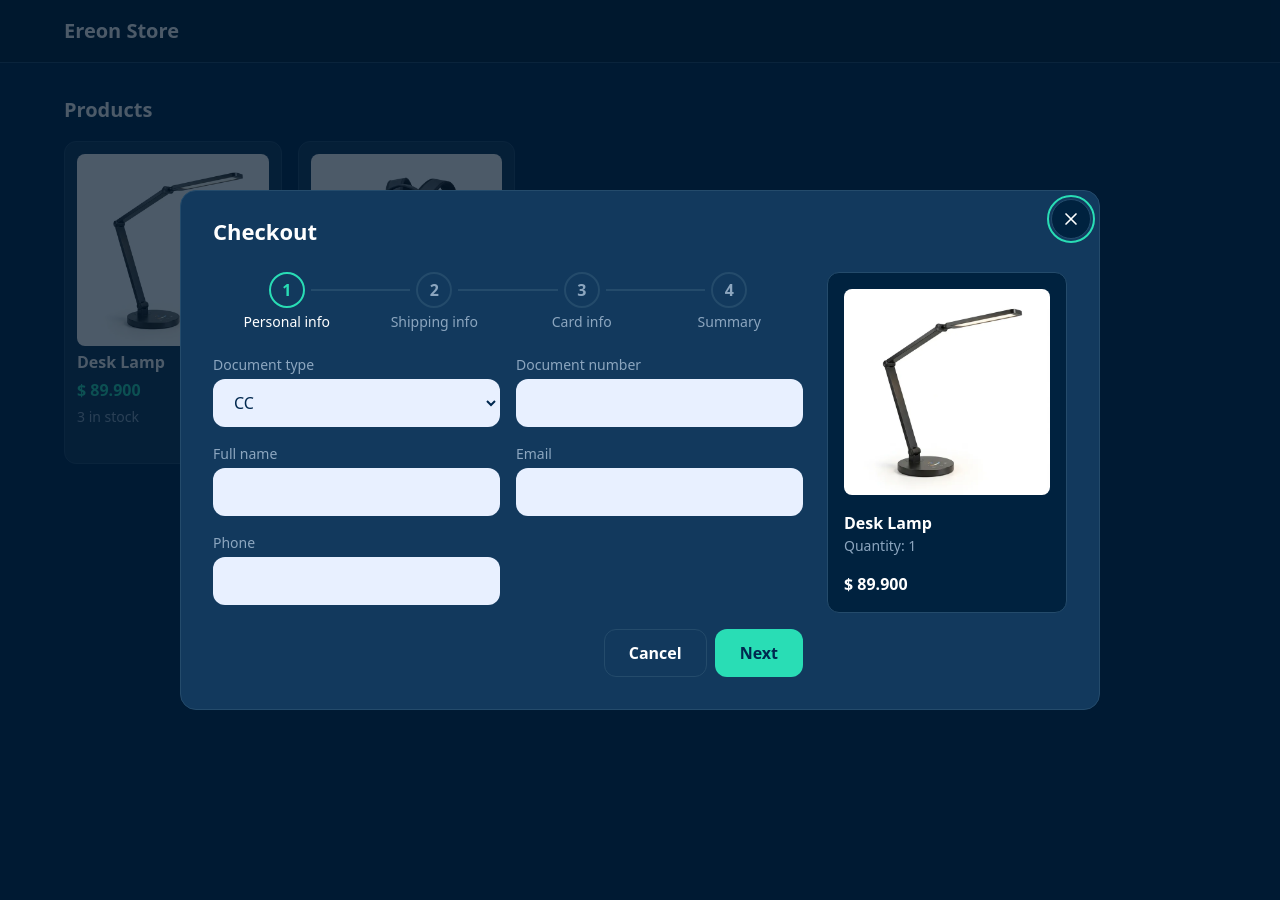
Test: checkout modal › blocks "Next" with inline errors until the current step is valid
This screenshot has width=1280, height=900.
Earlier steps of the test are not shown.
Click the button "Next" at [759, 653], box [715, 629, 803, 677]
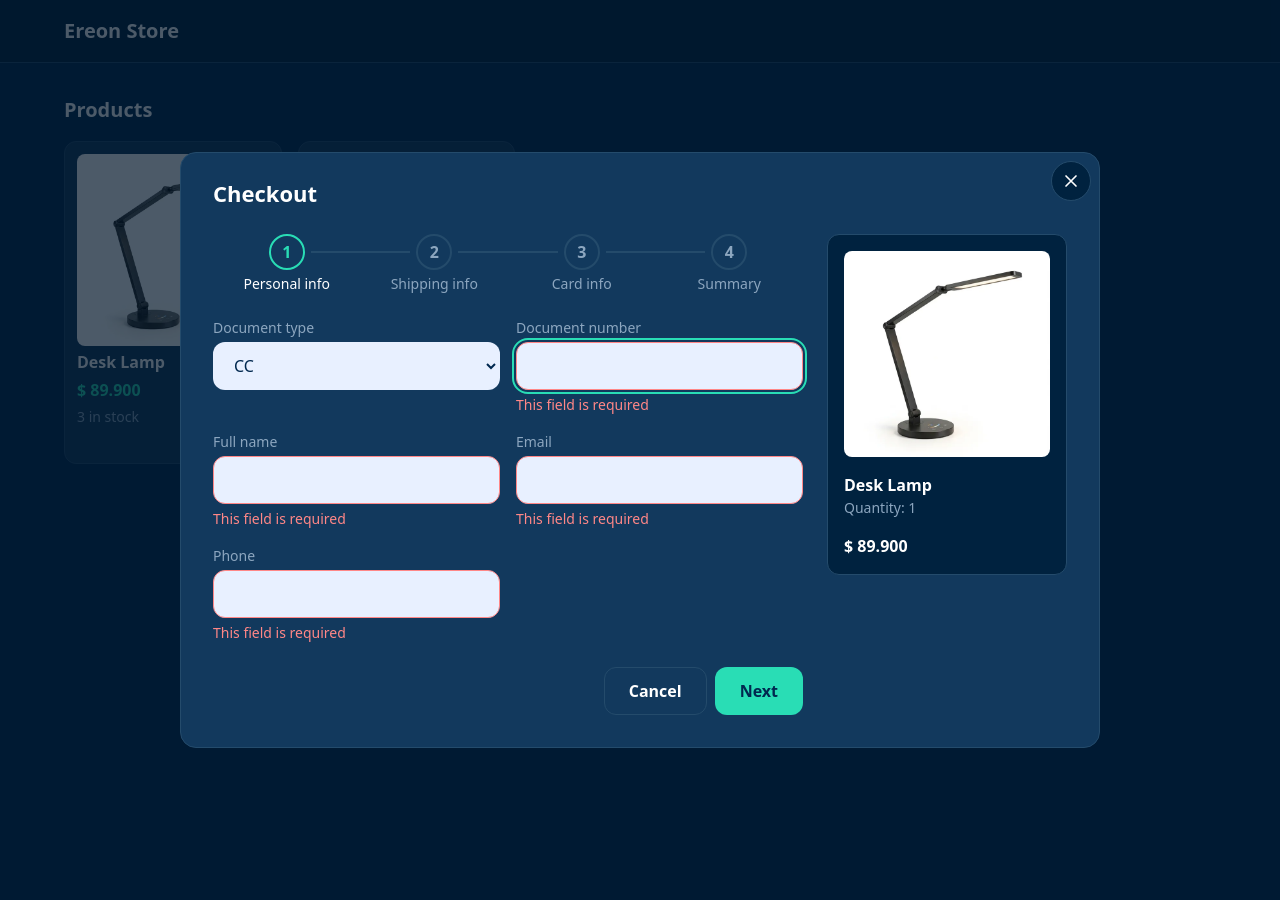
Type "1020304050" into the field labelled "Document number" at [660, 366], box [516, 342, 803, 390]
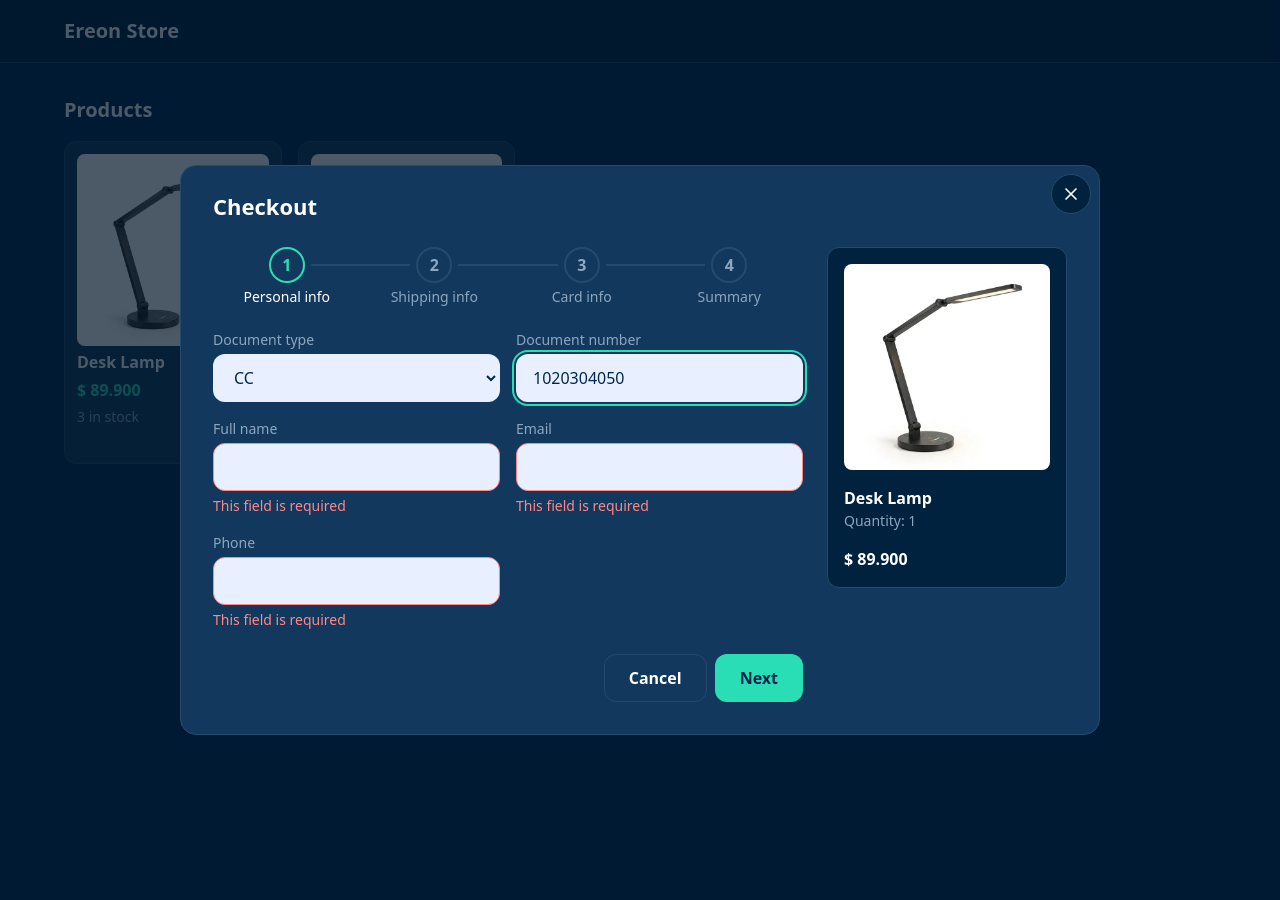
Type "Jane Doe" into the field labelled "Full name" at [356, 467], box [213, 443, 500, 491]
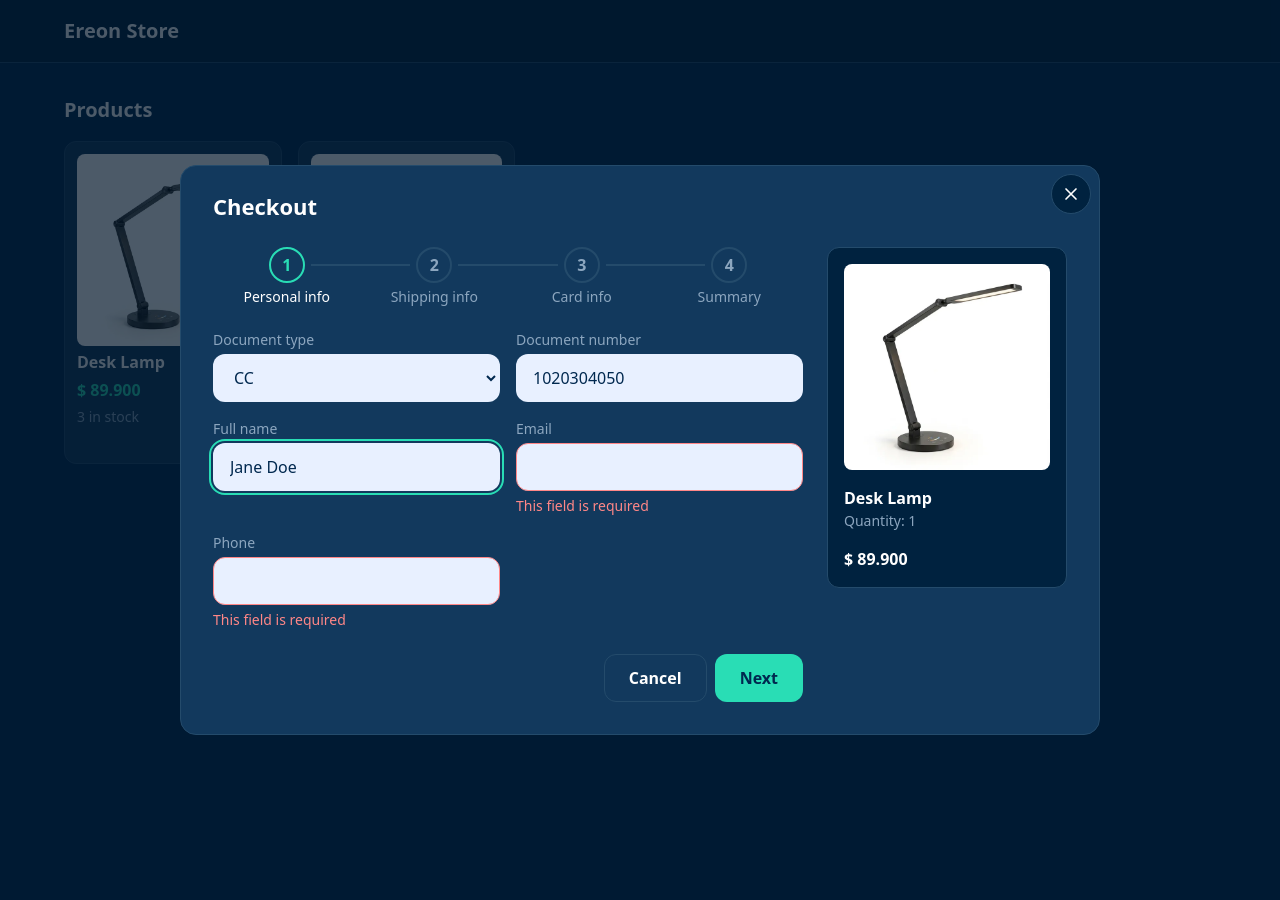
Type "jane@example.com" into the field labelled "Email" at [660, 467], box [516, 443, 803, 491]
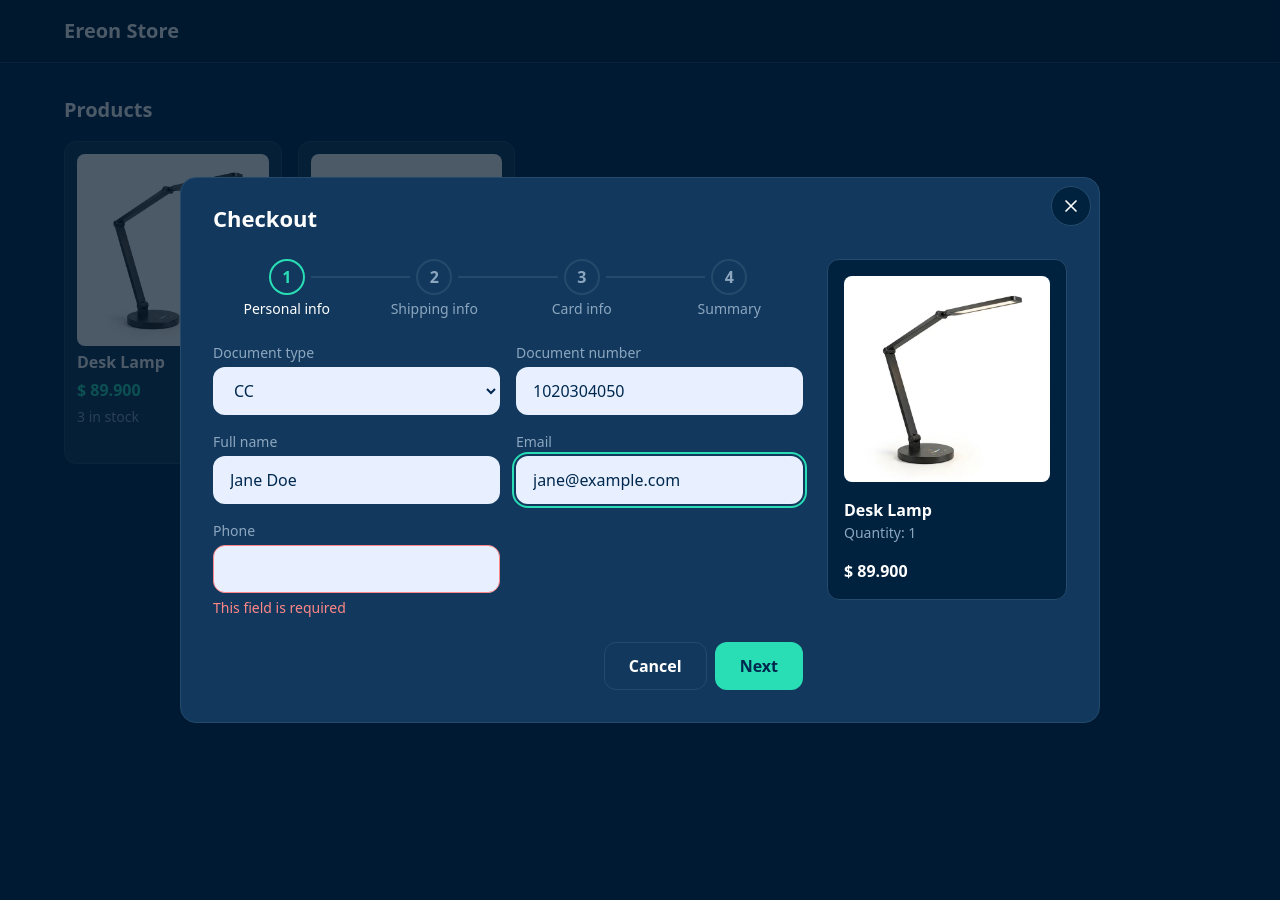
Type "3001112233" into the field labelled "Phone" at [356, 569], box [213, 545, 500, 593]
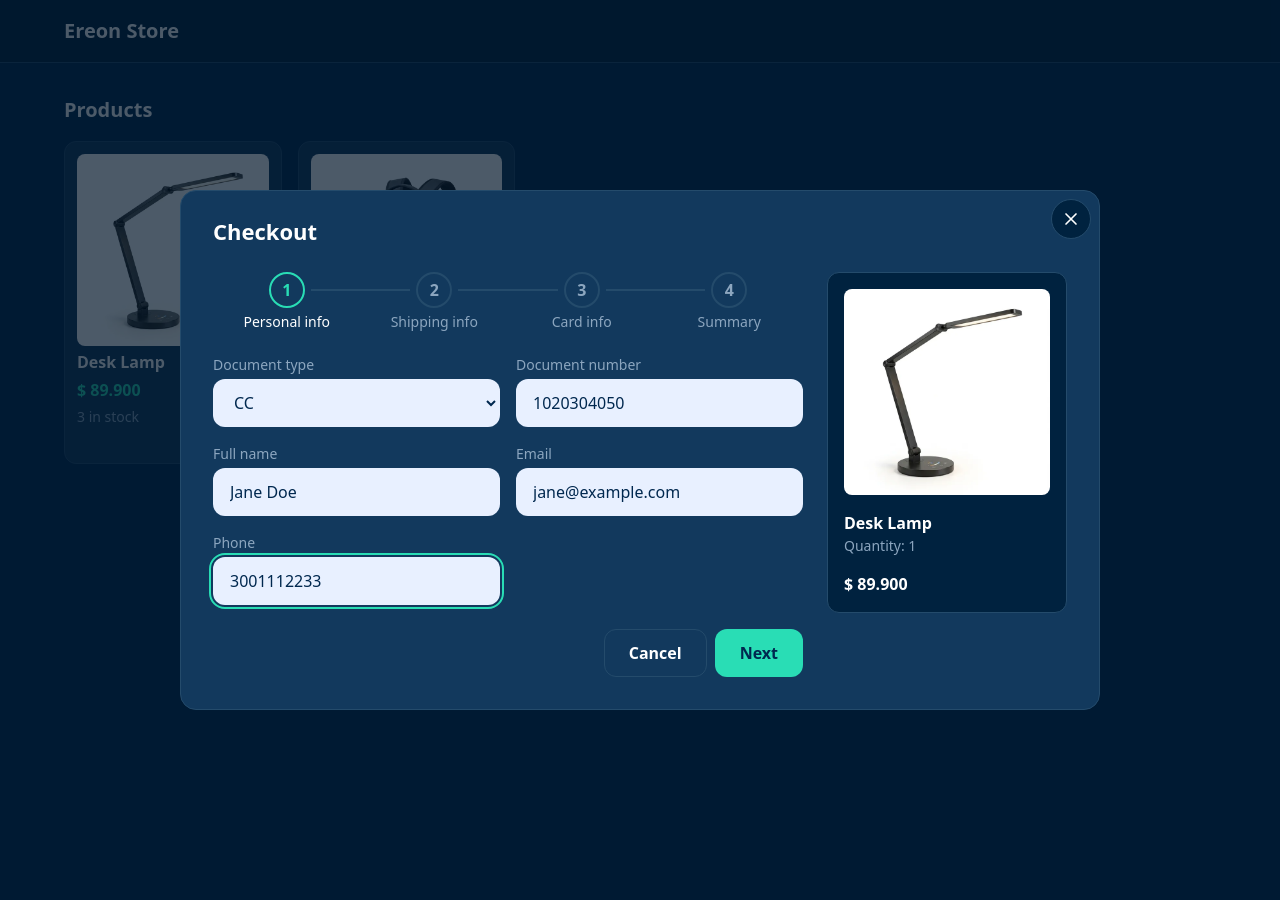
Click the button "Next" at [759, 653], box [715, 629, 803, 677]
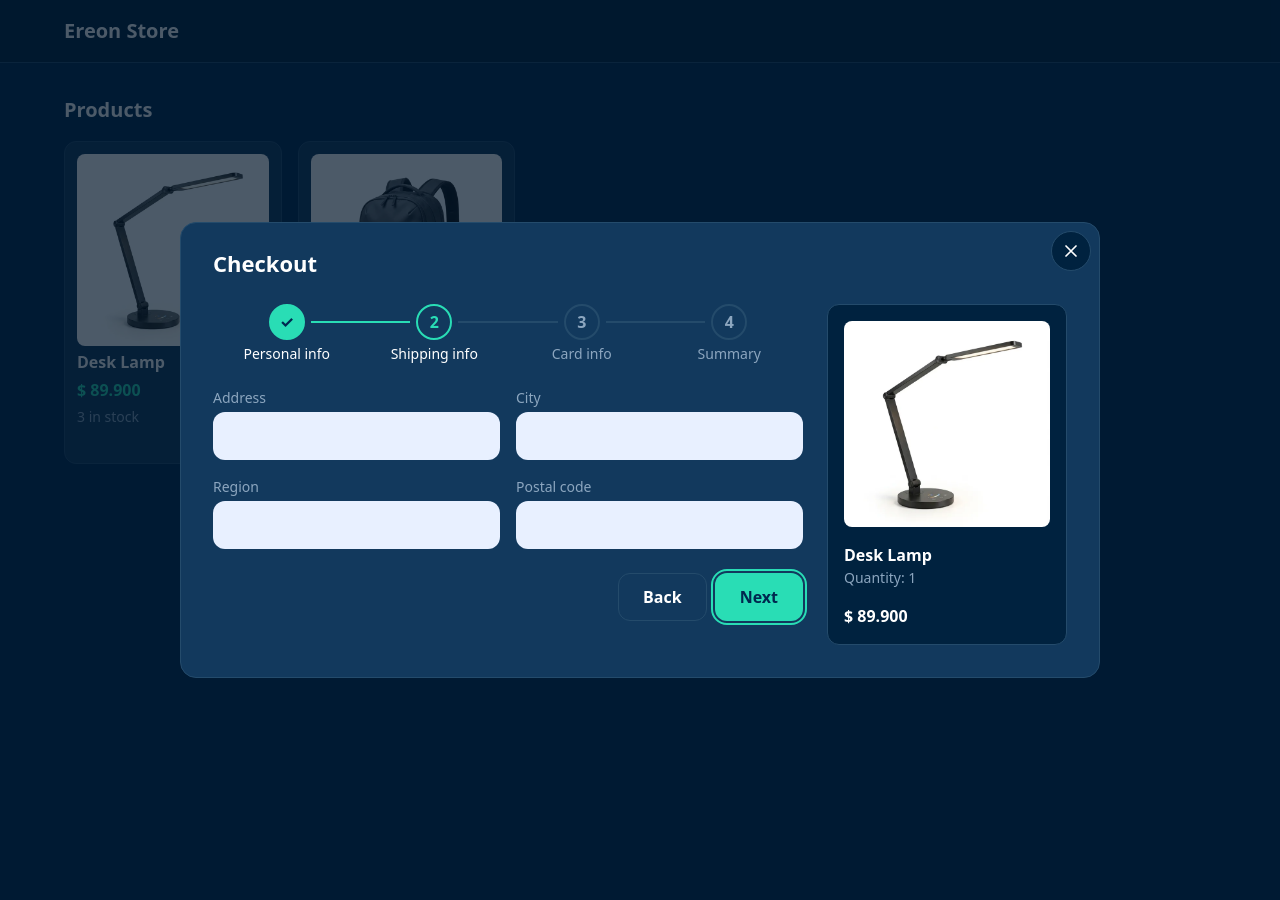
Expected: the field labelled "Address" is shown, [213, 412, 500, 460]
